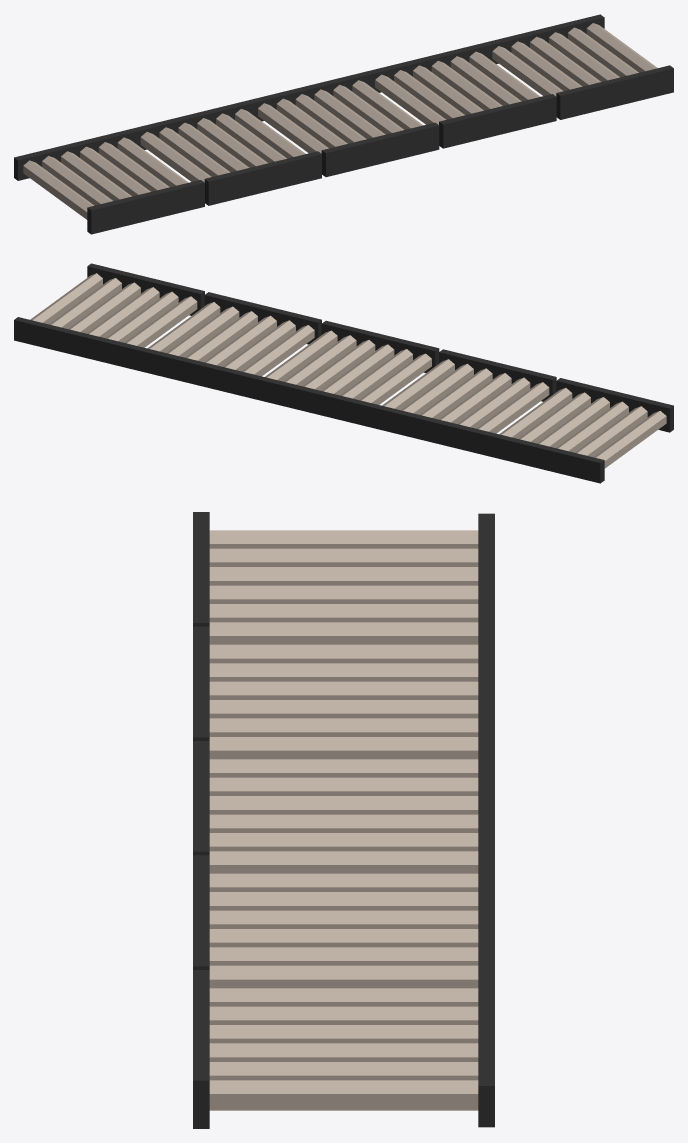
File: Prop_Sewer_Long_Fence.fbx
3 renders of one model, top to bottom at view 1: azimuth 30°, elevation 25°; view 2: azimuth 150°, elevation 25°; view 3: azimuth 270°, elevation 25°, orthographic. The views are drawn at different scales.
Visible parts, largest first — view 1: Long_Fence; view 2: Long_Fence; view 3: Long_Fence.
Boxes of the visible parts, x1,y1,x2,y2 form: Long_Fence: (14,14,673,234); Long_Fence: (14,263,673,483); Long_Fence: (193,512,494,1128).
Bounding box in the file's own units: 1653 × 64.9 × 368.
